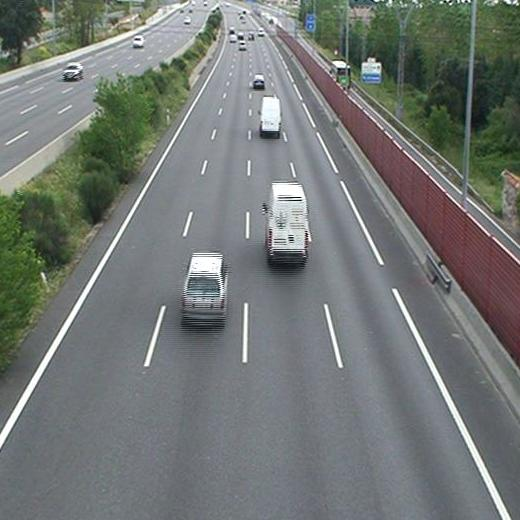car: (180, 253, 225, 321), (252, 74, 266, 86), (237, 42, 247, 50)
van: (264, 184, 306, 264), (261, 97, 282, 134)
